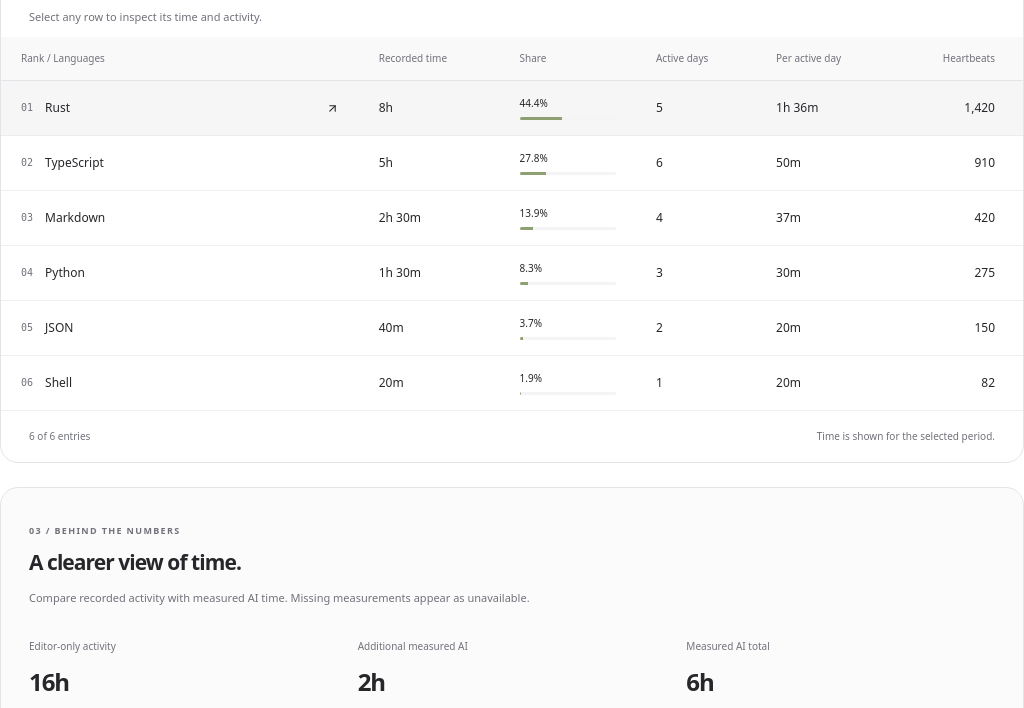
Scenario: Insights › selects any entry and calculates its share and average from real data
This screenshot has width=1024, height=708.
(page scrolled)
Click the button "06 Shell": (27, 383) top-left (21, 374), bottom-right (339, 392)
(page scrolled)
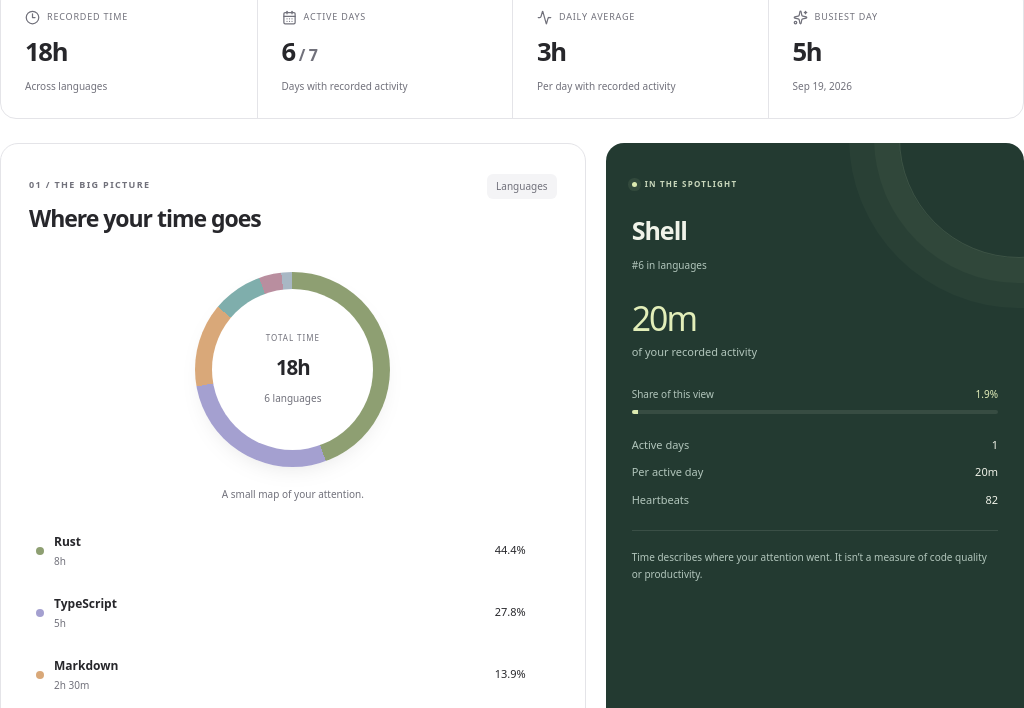
Expected: the element named "Selected insight" shows "Shell", top-left (632, 213), bottom-right (687, 247)
Expected: the element named "Selected insight" shows "20m", top-left (632, 295), bottom-right (696, 341)
Expected: the element named "Selected insight" shows "82", top-left (985, 492), bottom-right (998, 507)
